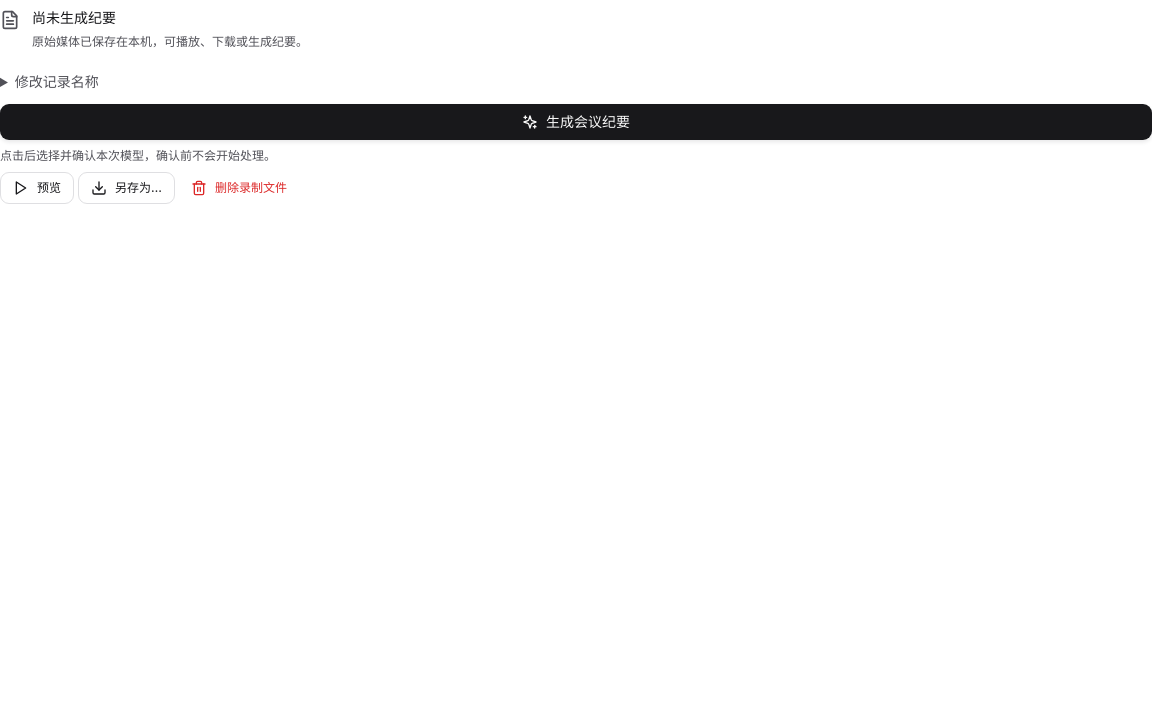
Test: retains failed deletion confirmation and permits retry without losing the recording
What coordinates should you click on to do the following:
click the button "删除录制文件"
I would click on:
 (239, 188)
Its box is [179,172,299,204].
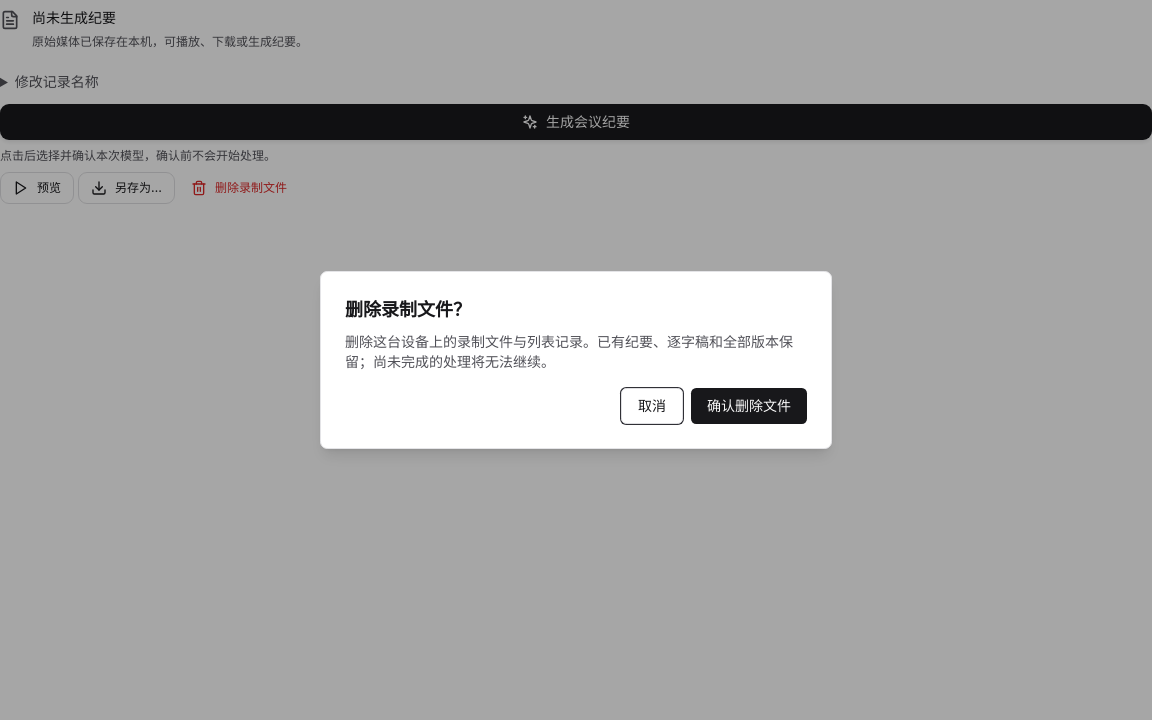
What coordinates should you click on to do the following:
click the button "确认删除文件"
I would click on:
 (749, 406)
Its box is [691,388,807,424].
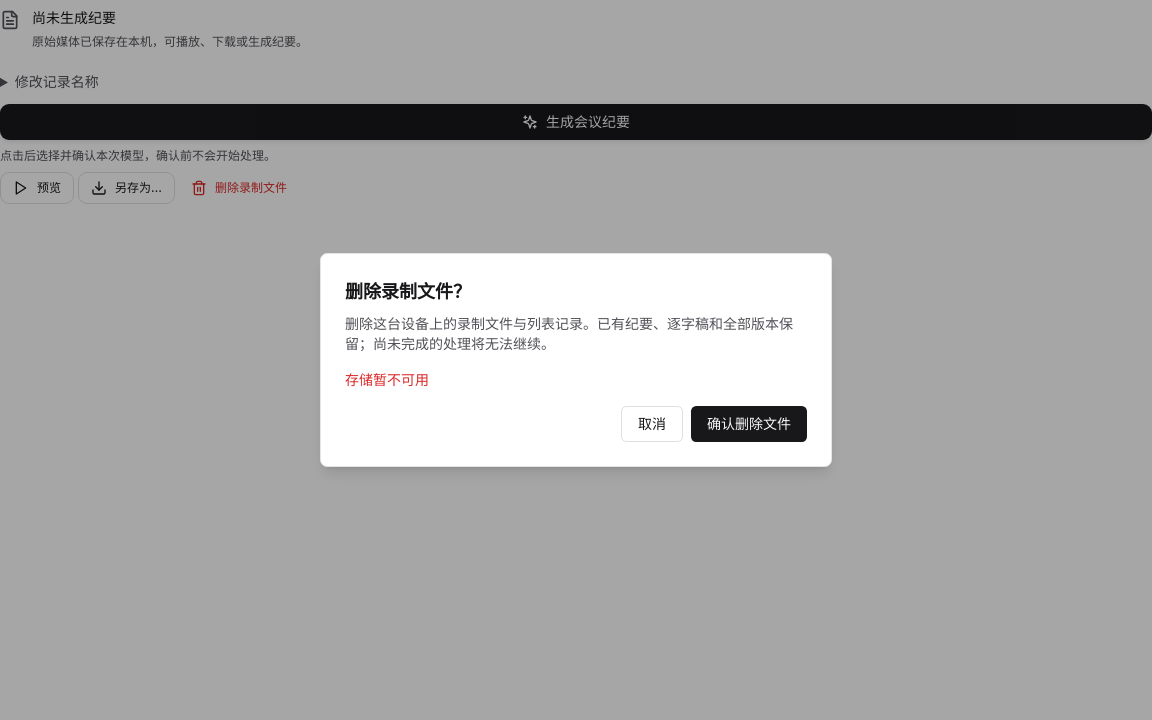
Result: the text "存储暂不可用" is shown at [345,371,429,388]
What coordinates should you click on to do the following:
click the button "确认删除文件"
I would click on:
 (749, 424)
Its box is [691,406,807,442].
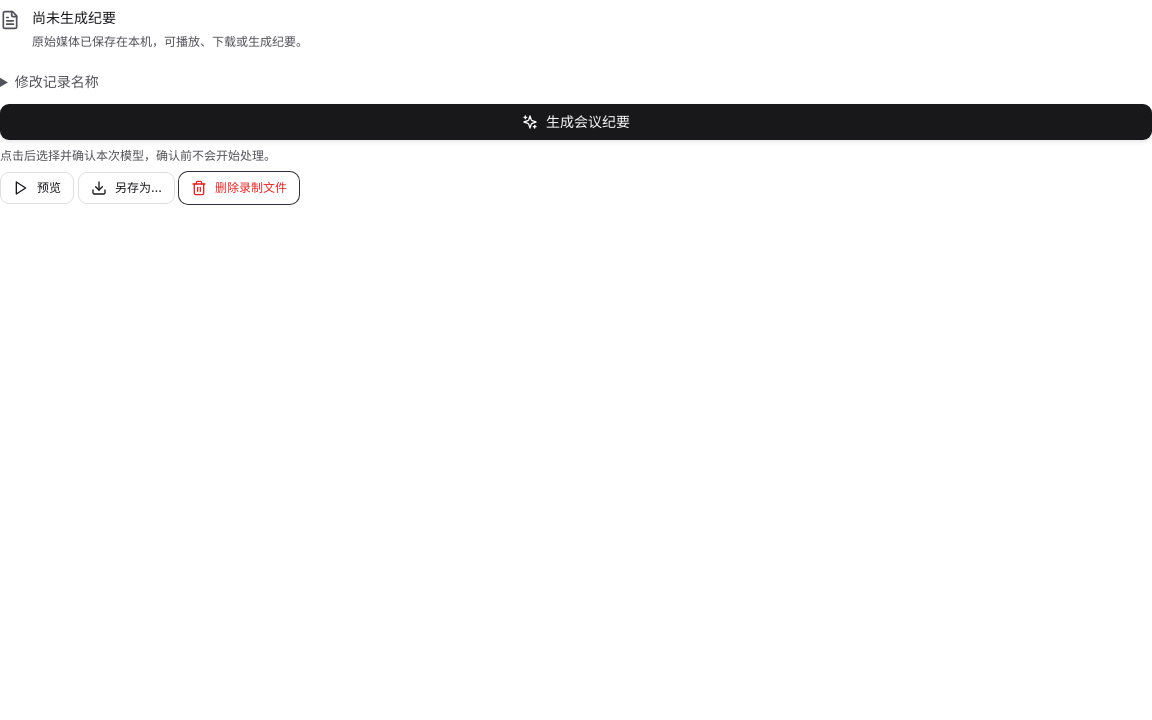
Result: the dialog is gone
